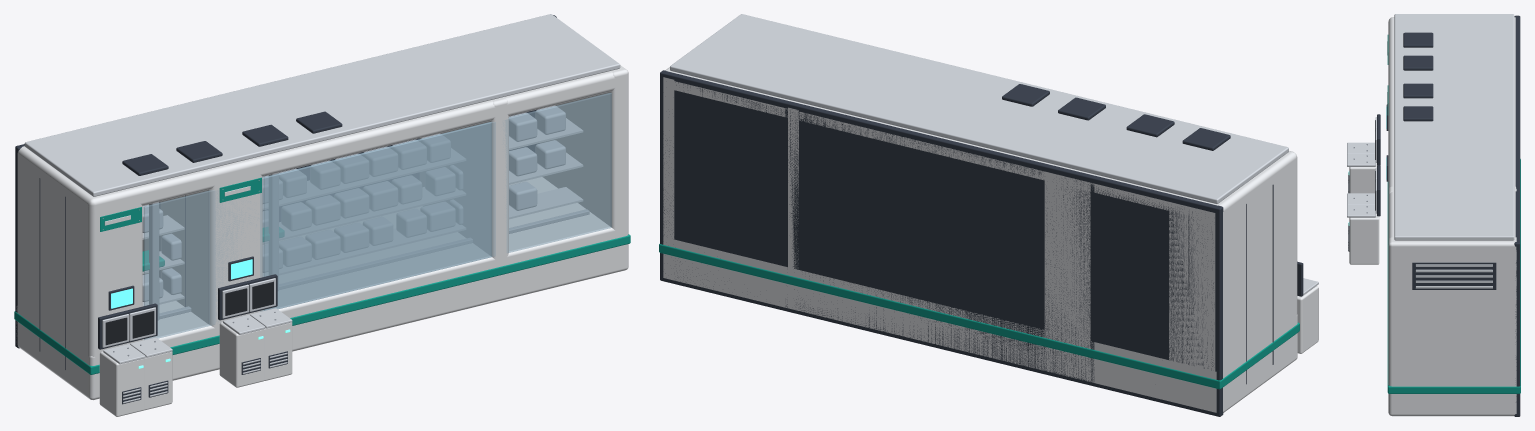
Rendered from stocker.glb.
The picture shows the model from 3 angles, left to right: view 1: azimuth 30°, elevation 25°; view 2: azimuth 150°, elevation 25°; view 3: azimuth 270°, elevation 25°; orthographic projection. The views are drawn at different scales.
Parts seen in each view (by area): view 1: stocker_b_body, stocker_a_body, stocker_b_crane, stocker_a_crane, stocker_b_port0_door, stocker_b_port1_door, stocker_a_port0_door, stocker_a_port1_door; view 2: stocker_b_body, stocker_a_body; view 3: stocker_b_body, stocker_a_body.
Boxes of the visible parts, x1=… form: stocker_b_body: x1=14, y1=14, x2=630, y2=416; stocker_a_body: x1=142, y1=43, x2=509, y2=387; stocker_b_crane: x1=142, y1=202, x2=164, y2=320; stocker_a_crane: x1=263, y1=172, x2=283, y2=290; stocker_b_port0_door: x1=102, y1=314, x2=129, y2=347; stocker_b_port1_door: x1=129, y1=307, x2=155, y2=341; stocker_a_port0_door: x1=222, y1=284, x2=248, y2=318; stocker_a_port1_door: x1=249, y1=278, x2=275, y2=311; stocker_b_body: x1=659, y1=14, x2=1318, y2=416; stocker_a_body: x1=784, y1=44, x2=1161, y2=385; stocker_b_body: x1=1347, y1=14, x2=1520, y2=416; stocker_a_body: x1=1347, y1=64, x2=1520, y2=335.
Size of the model in its own units: 9.03 by 3.33 by 2.9.
